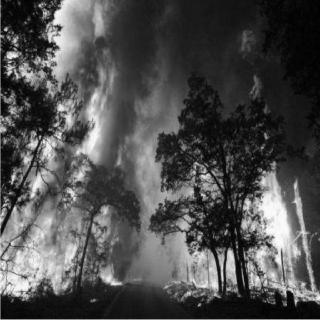Fire: (3, 5, 131, 289), (169, 174, 237, 302)
